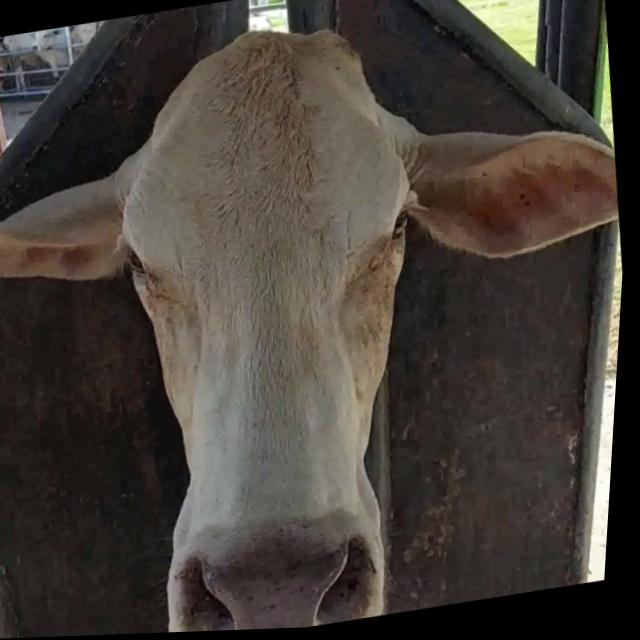cowFace: (76, 7, 479, 637)
